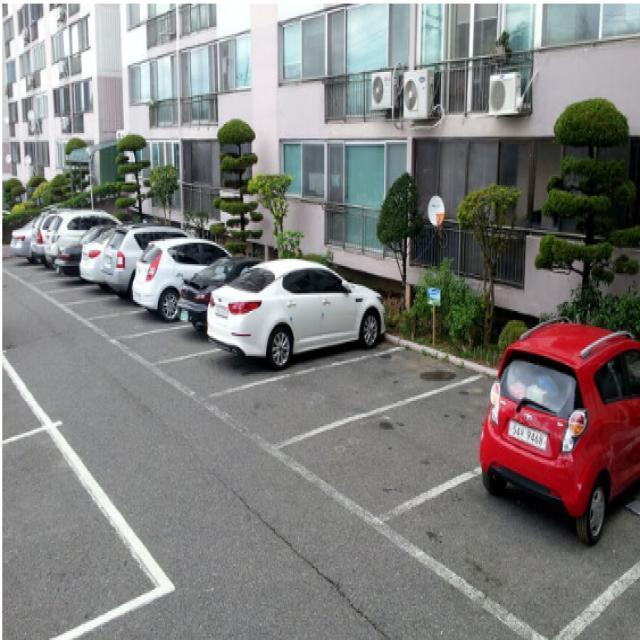Car: (494, 340, 640, 534), (222, 256, 382, 362), (144, 236, 220, 315)
Vacant: (209, 350, 481, 433)
